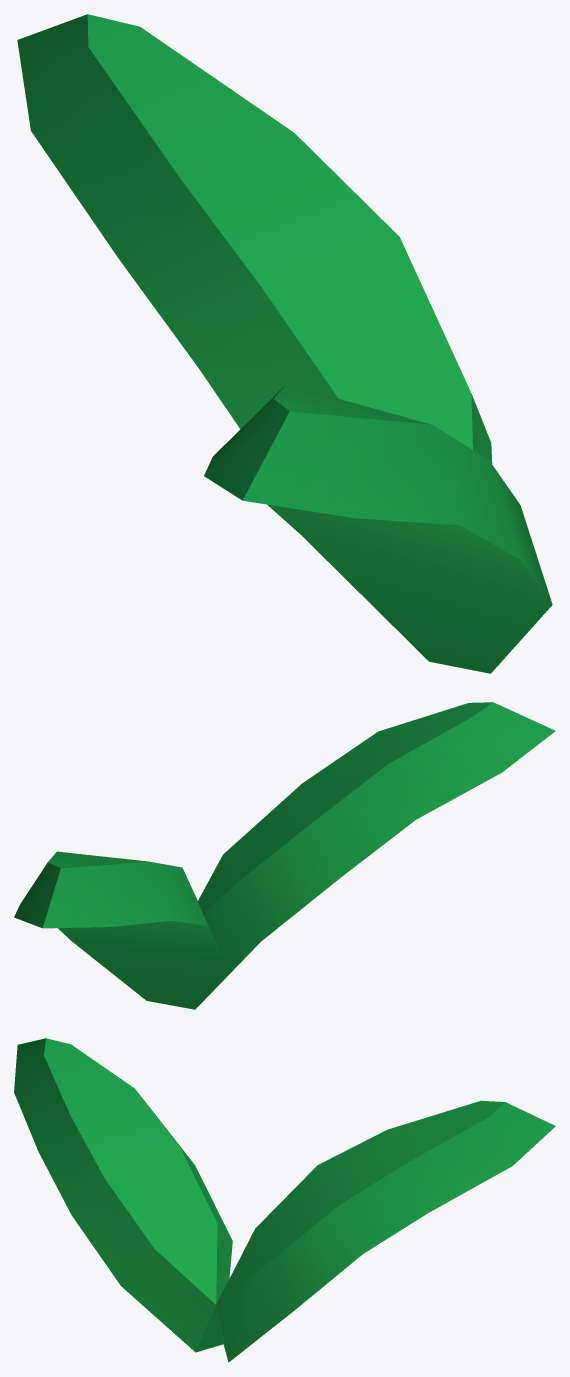
The model's file is Grass_A_2.glb.
The picture shows the model from 3 angles, top to bottom: view 1: azimuth 30°, elevation 25°; view 2: azimuth 150°, elevation 25°; view 3: azimuth 270°, elevation 25°; orthographic projection. The views are drawn at different scales.
Visible parts, largest first — view 1: Grass_A_2; view 2: Grass_A_2; view 3: Grass_A_2.
Boxes of the visible parts, <box> form: Grass_A_2: <box>17,14,552,673</box>; Grass_A_2: <box>14,702,555,1009</box>; Grass_A_2: <box>14,1038,555,1362</box>.
Size of the model in its own units: 0.1656 by 0.1375 by 0.2953.
1 material, 1 textured.
